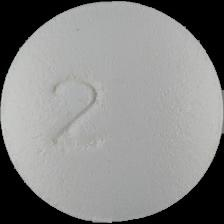47781-108: (0, 0, 224, 224)
